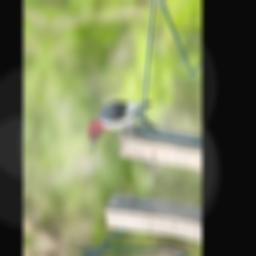Woodpecker: (85, 90, 153, 161)
